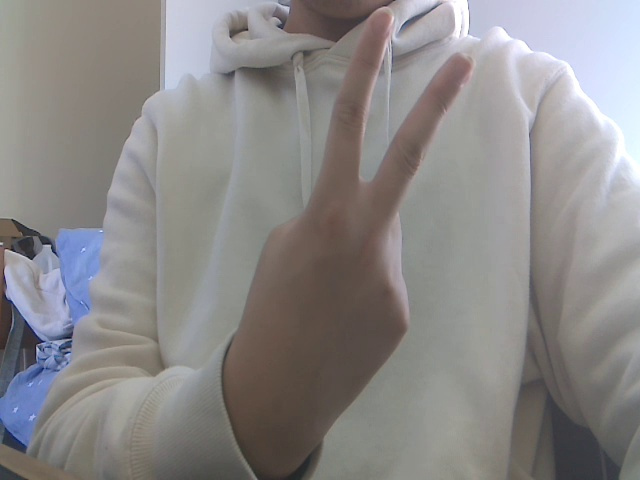hand_gesture_2: (210, 1, 486, 454)
